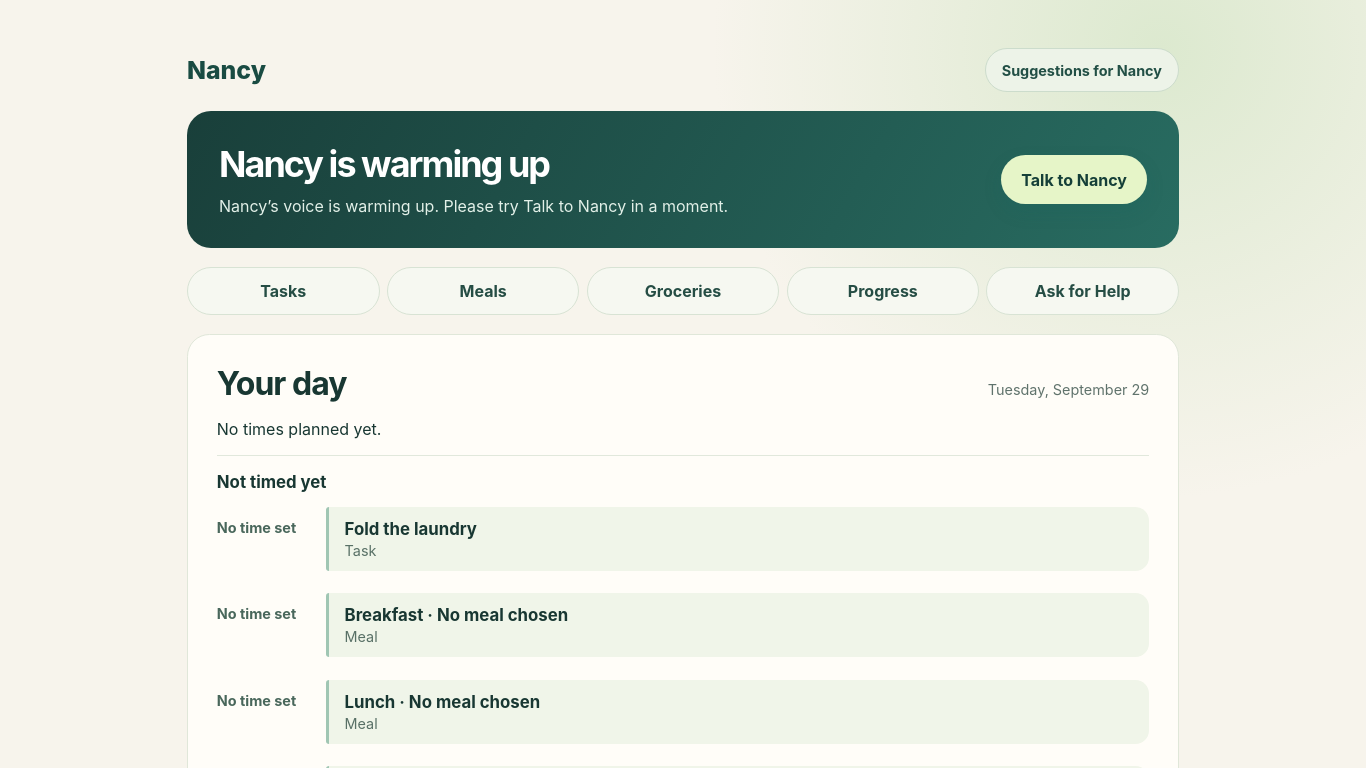
Test: S01 participant plan UI › rechecks a warming voice when Talk to Nancy is pressed
Expected: the text "Nancy’s voice is warming up" is shown, [219, 196, 728, 216]
Click the button "Talk to Nancy" at (1074, 180), box [1001, 155, 1147, 204]
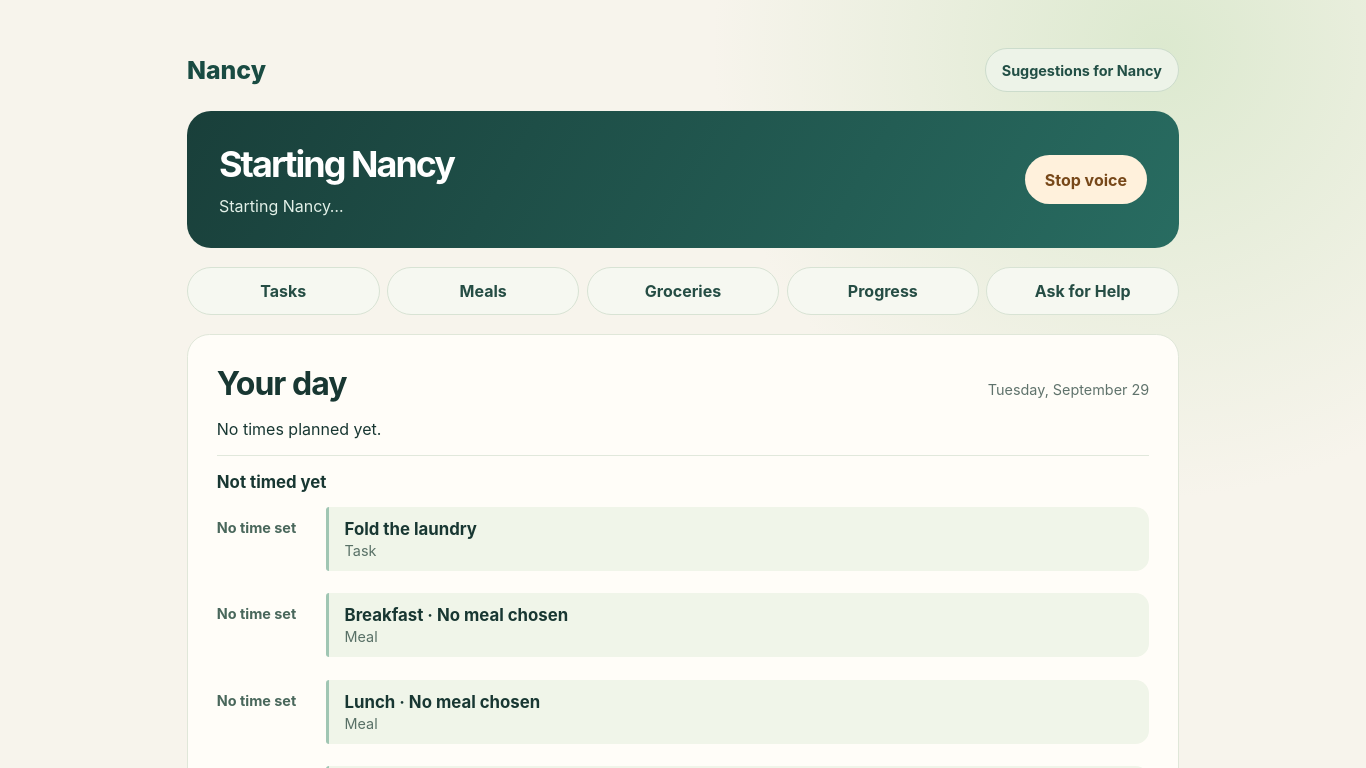
Result: the button "Stop voice" is shown at [1025, 155, 1147, 204]
